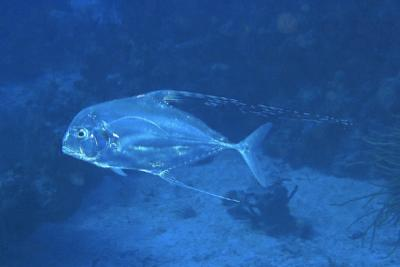Carangidae -Jacks-: (58, 85, 301, 202)
